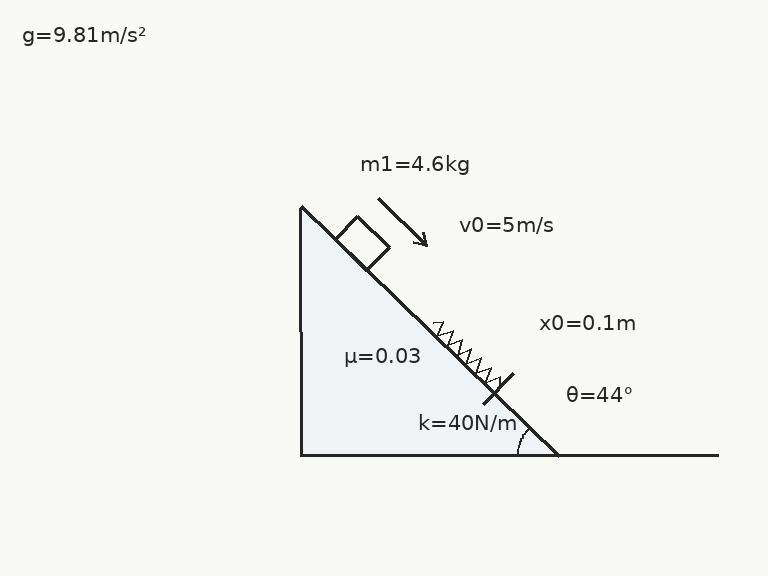block: (333, 214, 391, 272)
ramp: (299, 205, 560, 457)
spring: (431, 320, 502, 389)
